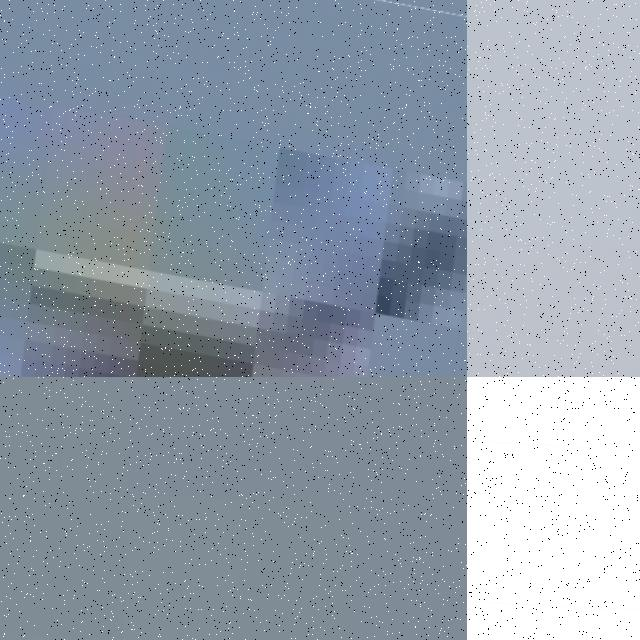drone: (0, 0, 467, 377)
